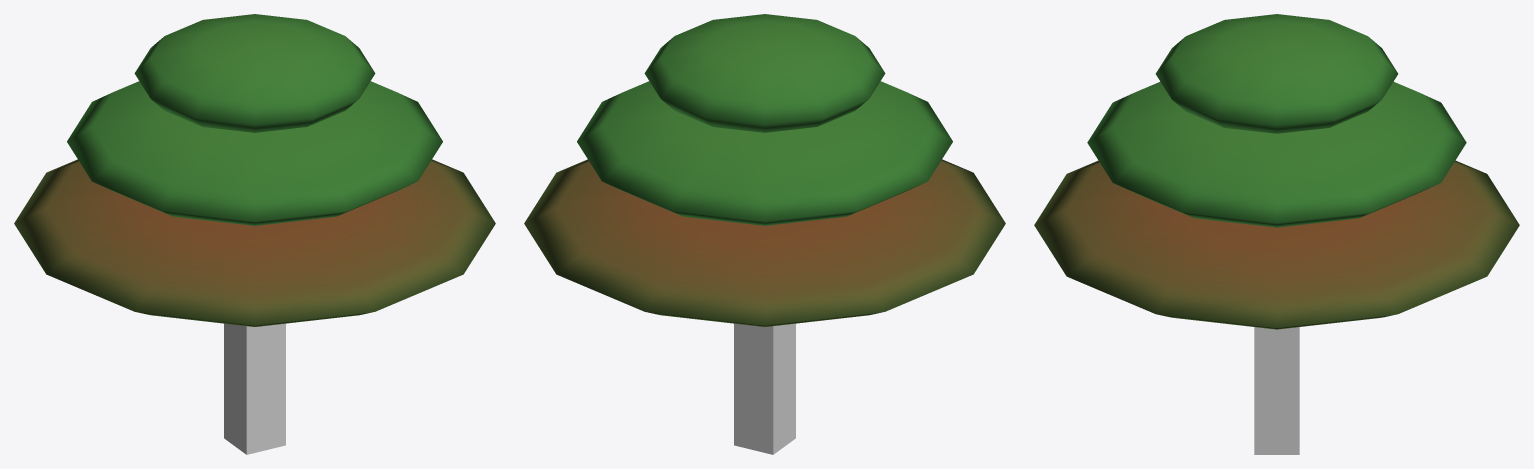
Rendered from almendro_playa.glb.
3 views of the same model, side by side, from view 1: azimuth 30°, elevation 25°; view 2: azimuth 150°, elevation 25°; view 3: azimuth 270°, elevation 25° (orthographic).
Visible parts, largest first — view 1: almendro_playa_Malla, COL_0; view 2: almendro_playa_Malla, COL_0; view 3: almendro_playa_Malla, COL_0.
Boxes of the visible parts, x1,y1,x2,y2 form: almendro_playa_Malla: (14,14,495,326); COL_0: (224,323,285,454); almendro_playa_Malla: (524,14,1005,326); COL_0: (734,323,795,454); almendro_playa_Malla: (1034,14,1519,329); COL_0: (1254,327,1299,454).
Bounding box in the file's own units: 6.4 × 5.85 × 6.4.
